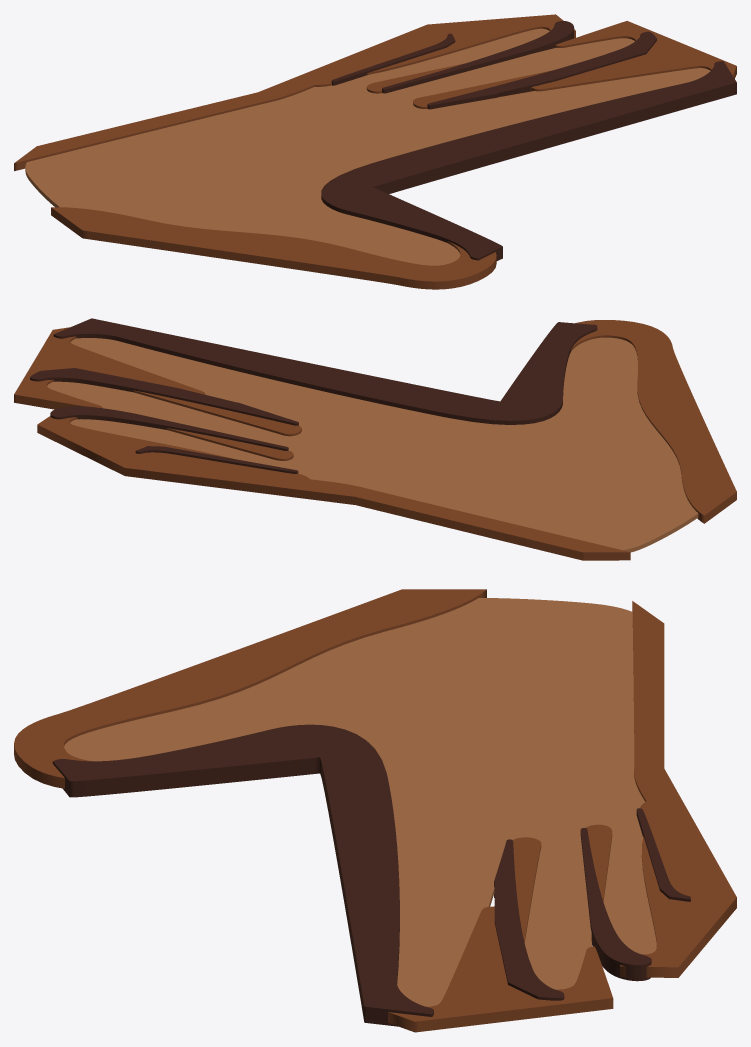
Rendered from emoji_u1faf3_1f3fe.glb.
The picture shows the model from 3 angles, top to bottom: view 1: azimuth 30°, elevation 25°; view 2: azimuth 150°, elevation 25°; view 3: azimuth 270°, elevation 25°; orthographic projection. The views are drawn at different scales.
Visible parts, largest first — view 1: emoji_u1faf3_1f3fe; view 2: emoji_u1faf3_1f3fe; view 3: emoji_u1faf3_1f3fe.
Part boxes in pixels (x1,y1,x2,y2): emoji_u1faf3_1f3fe: (14, 14, 736, 289); emoji_u1faf3_1f3fe: (14, 318, 736, 560); emoji_u1faf3_1f3fe: (14, 589, 736, 1032).
Bounding box in the file's own units: 0.0345 × 0.0006 × 0.0244.
